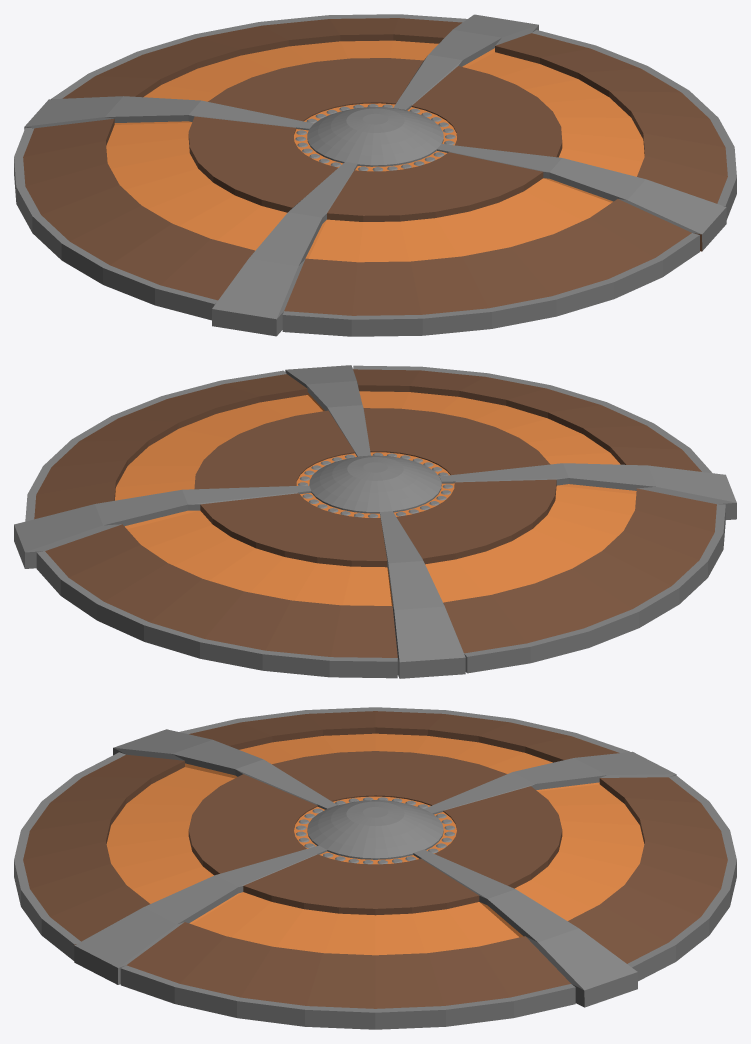
File: circular_shield.fbx
3 renders of one model, top to bottom at view 1: azimuth 30°, elevation 25°; view 2: azimuth 150°, elevation 25°; view 3: azimuth 270°, elevation 25°, orthographic. The views are drawn at different scales.
Parts seen in each view (by area): view 1: Cylinder; view 2: Cylinder; view 3: Cylinder.
Boxes of the visible parts, x1,y1,x2,y2 form: Cylinder: (14,14,736,336); Cylinder: (14,365,736,678); Cylinder: (14,707,736,1029).
Bounding box in the file's own units: 394 × 38.94 × 394.
